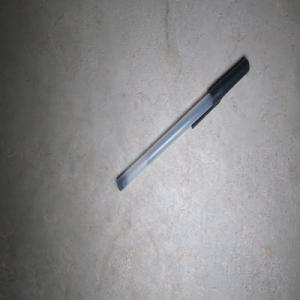Pen: (116, 57, 249, 190)
